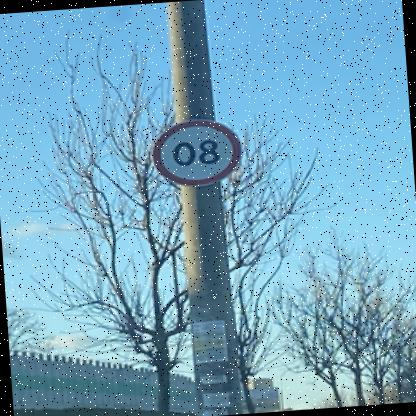speedlimit: (152, 114, 247, 188)
